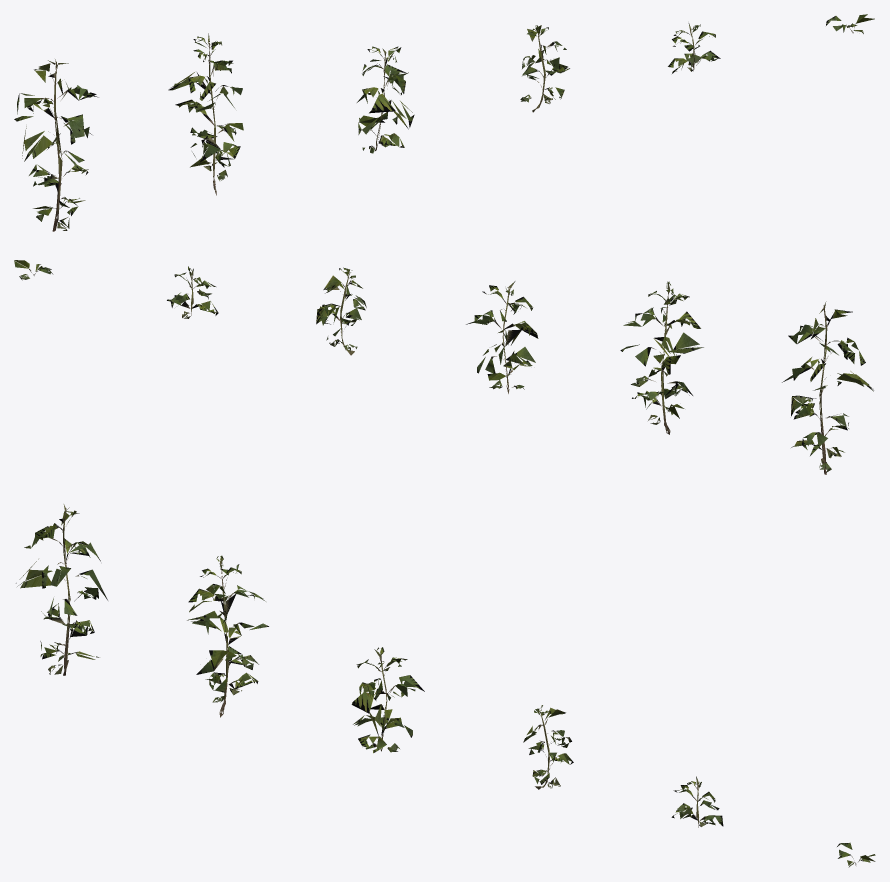
Rendered from weed_nettle.glb.
3 views of the same model, one above another, from view 1: azimuth 30°, elevation 25°; view 2: azimuth 150°, elevation 25°; view 3: azimuth 330°, elevation 25° (orthographic).
Visible parts, largest first — view 1: weed_nettle; view 2: weed_nettle; view 3: weed_nettle.
Part boxes in pixels (x1,y1,x2,y2): weed_nettle: [14, 14, 874, 231]; weed_nettle: [14, 260, 873, 474]; weed_nettle: [16, 504, 875, 867].
Bounding box in the file's own units: 2.23 × 0.4354 × 0.1883.
1 material, 1 textured.
